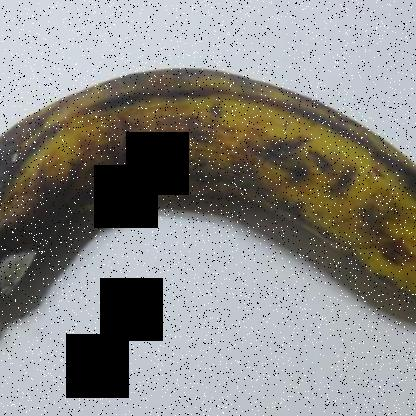overripe: (0, 44, 415, 332)
rotten: (0, 85, 65, 313)
